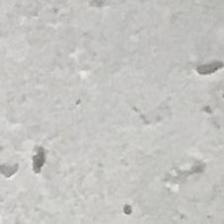Non_Crack: (12, 26, 174, 176)
